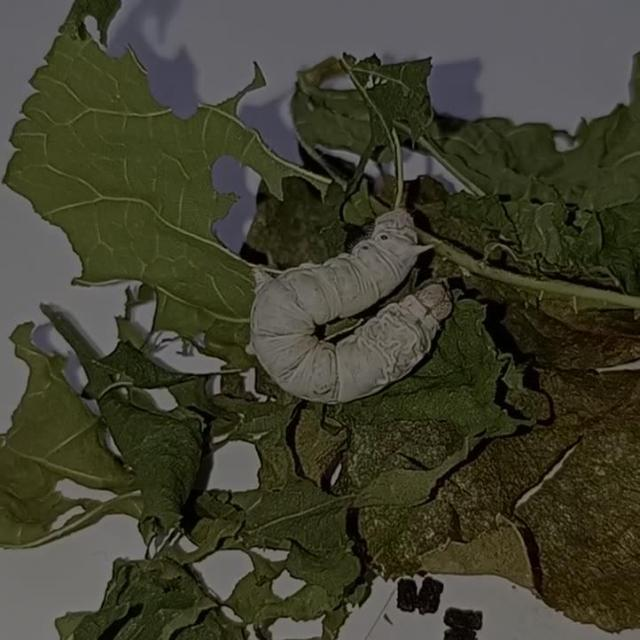Healthy: (238, 189, 479, 418)
